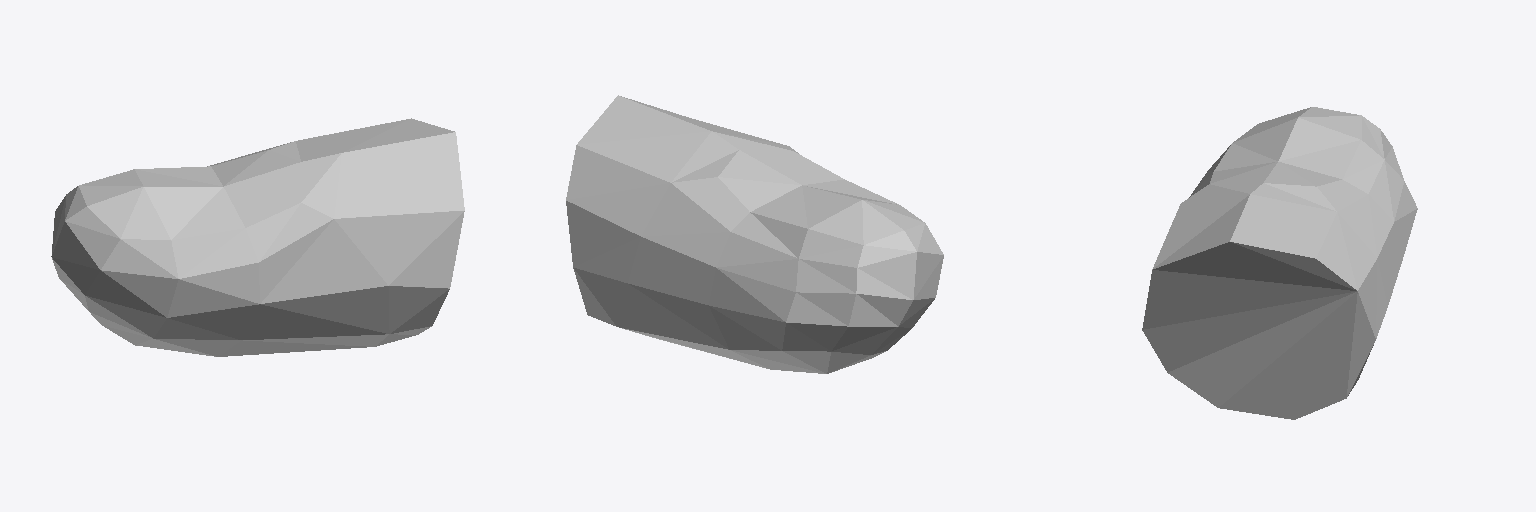
The model's file is mid3.obj.
3 renders of one model, left to right at view 1: azimuth 30°, elevation 25°; view 2: azimuth 150°, elevation 25°; view 3: azimuth 270°, elevation 25°, orthographic.
Size of the model in its own units: 28.47 by 15.5 by 19.42.